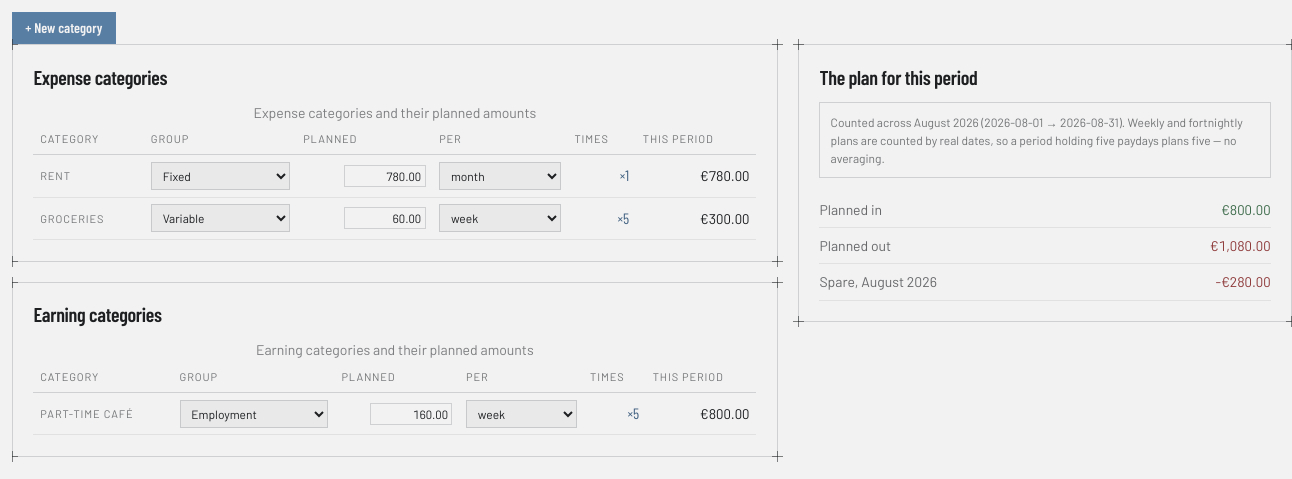
Scenario: CategoriesPage - editing the plan (BR-14) › updates the period total as soon as an amount is changed
Replace the text in the field named "Planned amount for Groceries" with "80" at (384, 218), box [344, 208, 426, 230]
Then press Enter
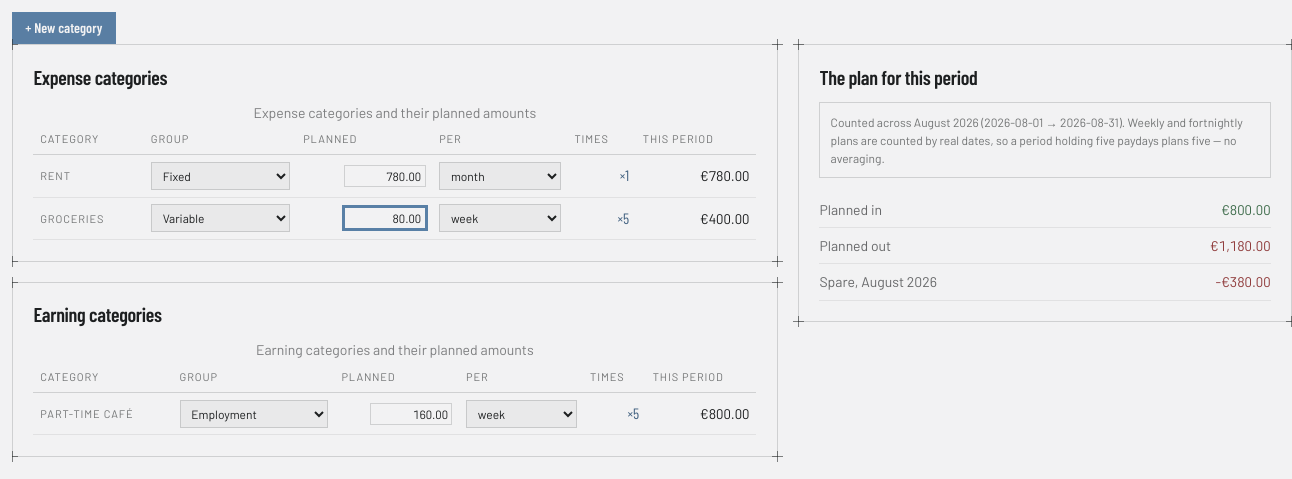
Expected: the text "€400.00" is shown, [700, 210, 750, 227]
